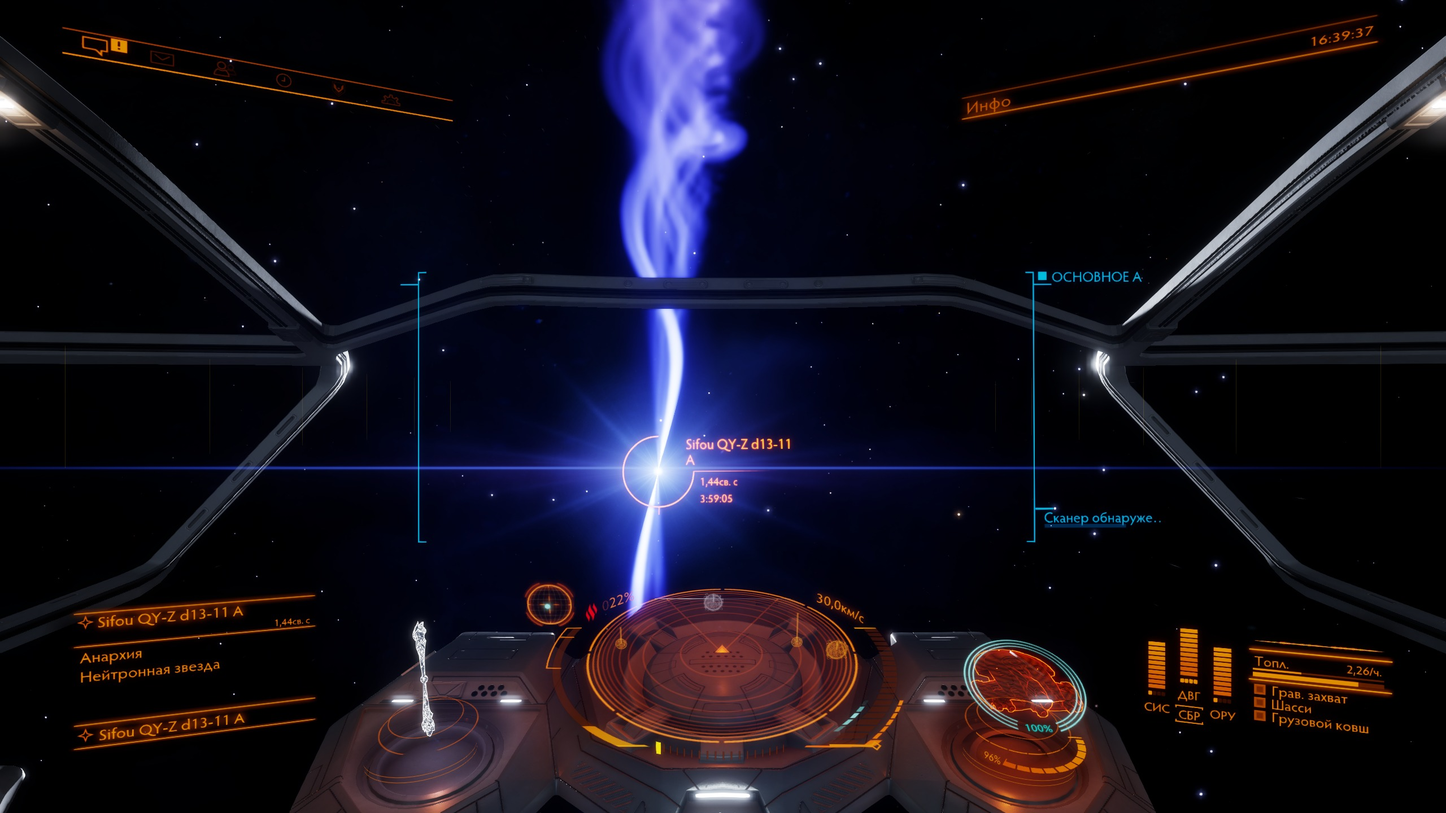jetcone: (401, 272, 829, 618), (621, 0, 745, 278)
